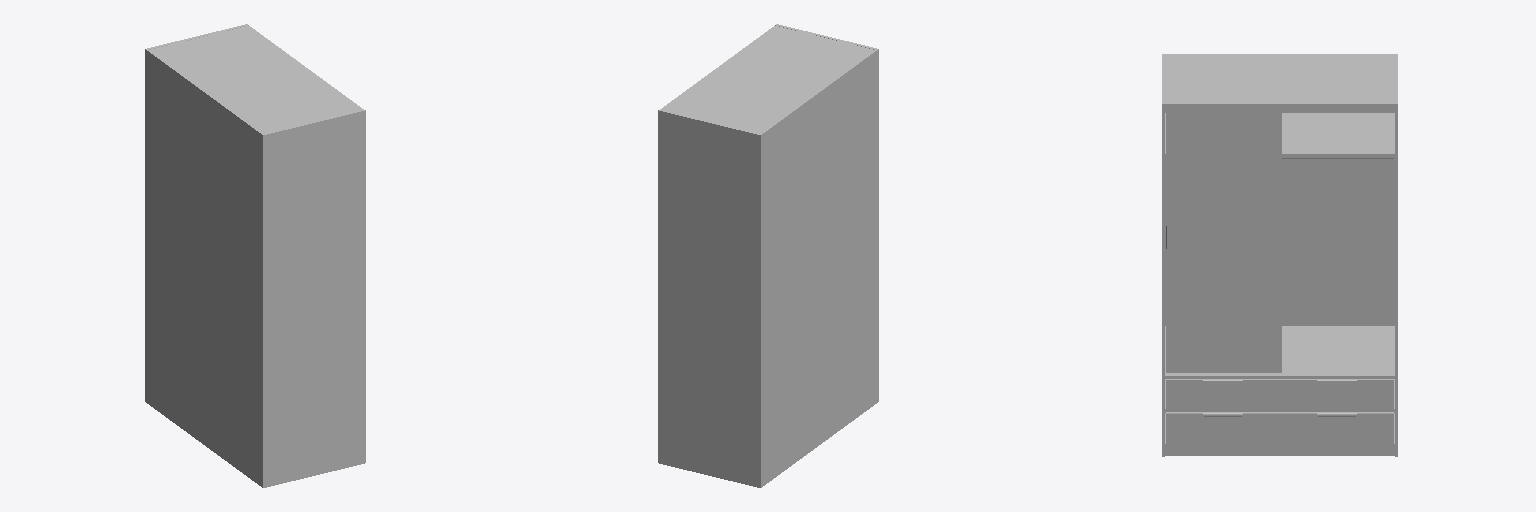
Rendered from CABINATE_1.obj.
3 renders of one model, left to right at view 1: azimuth 30°, elevation 25°; view 2: azimuth 150°, elevation 25°; view 3: azimuth 270°, elevation 25°, orthographic.
Visible parts, largest first — view 1: rack.001_Cylinder.001; view 2: rack.001_Cylinder.001; view 3: rack.001_Cylinder.001.
Boxes of the visible parts, <box> form: rack.001_Cylinder.001: <box>145,24,365,487</box>; rack.001_Cylinder.001: <box>658,24,878,487</box>; rack.001_Cylinder.001: <box>1162,54,1397,456</box>.
Size of the model in its own units: 0.6181 by 2.01 by 1.22.